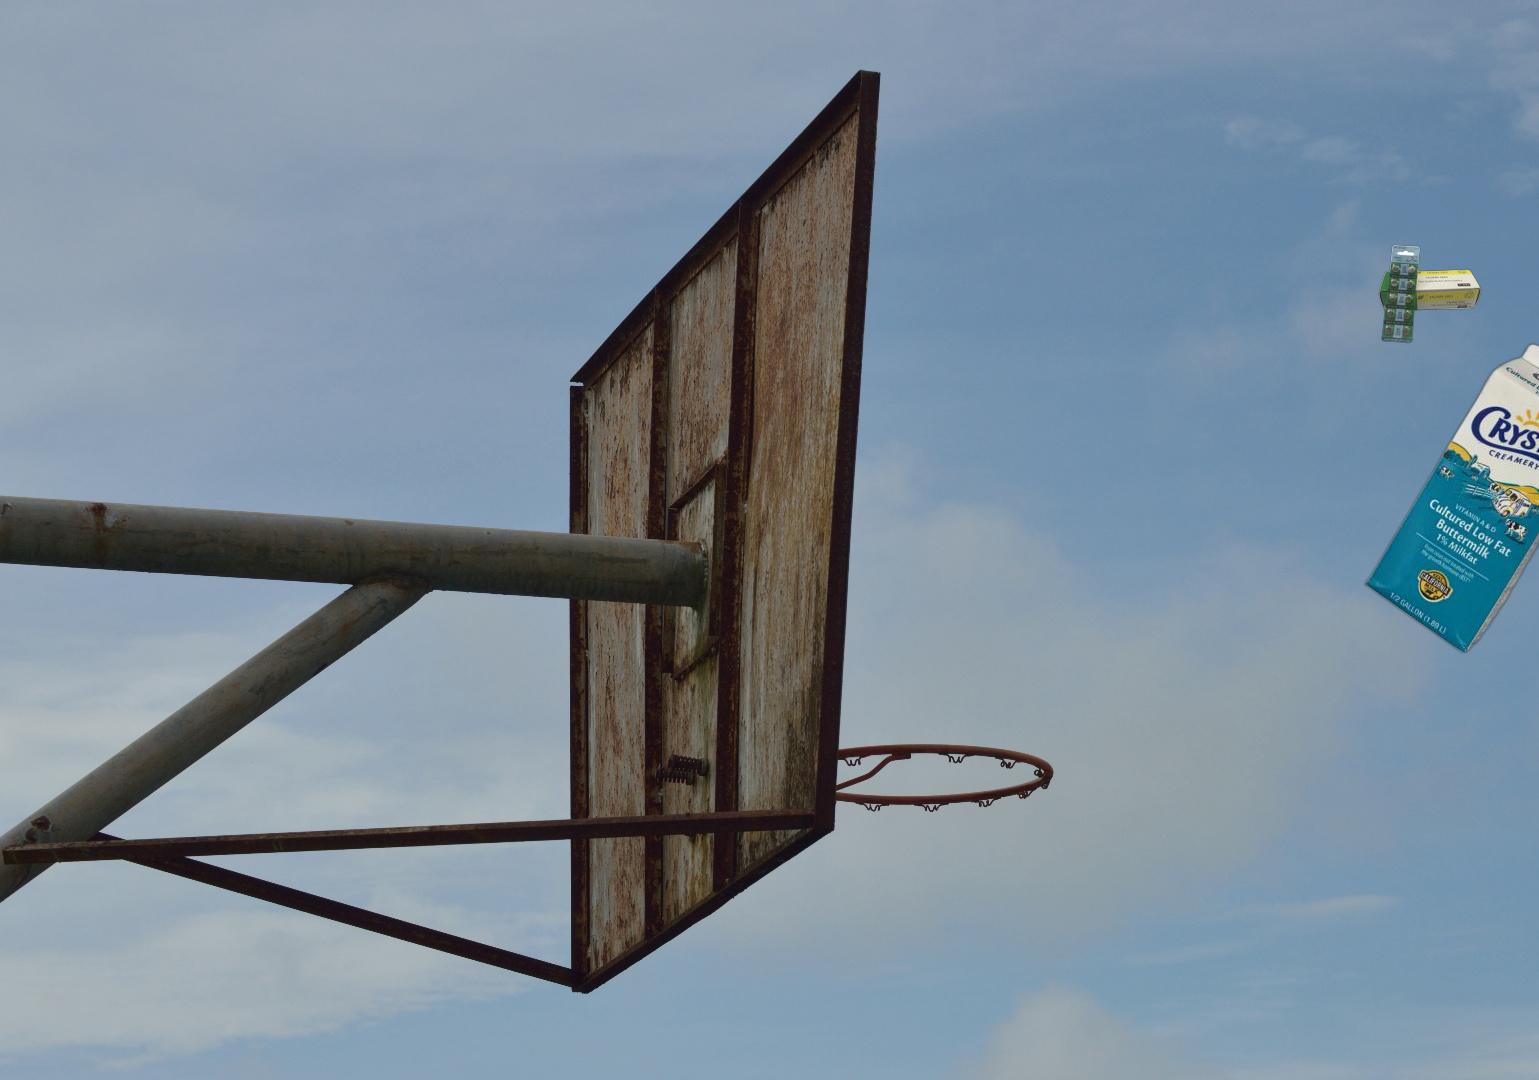battery: (1376, 242, 1484, 346)
paper: (1360, 341, 1539, 656)
